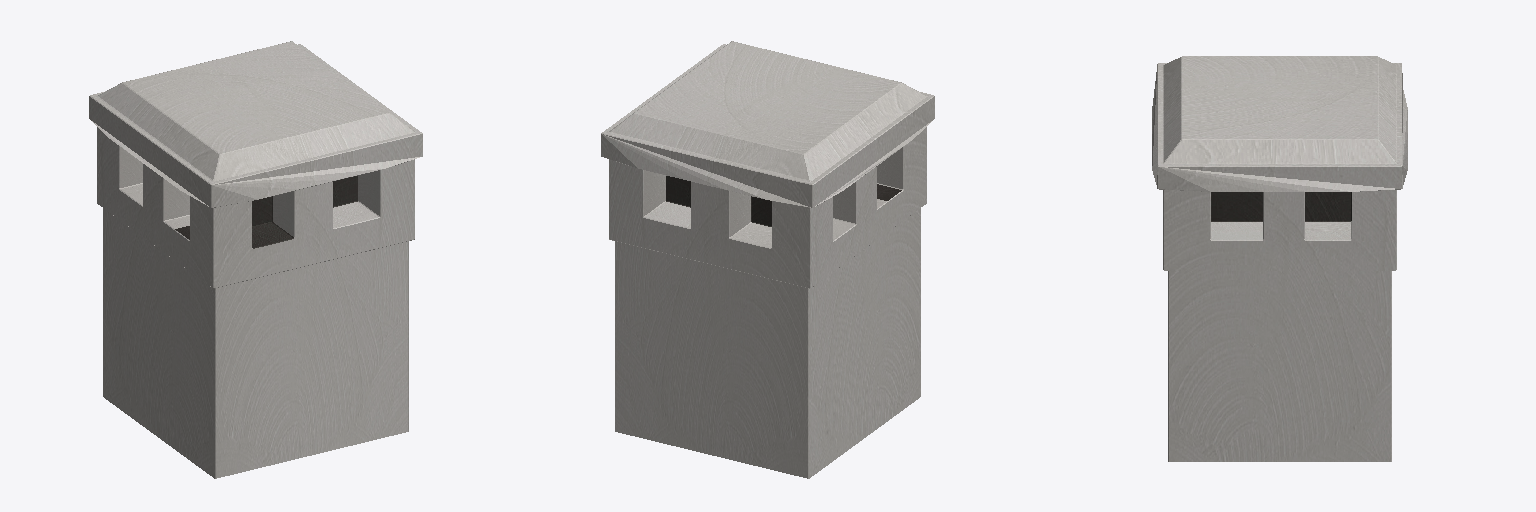
3 views of the same model, side by side, from view 1: azimuth 30°, elevation 25°; view 2: azimuth 150°, elevation 25°; view 3: azimuth 270°, elevation 25° (orthographic).
Visible parts, largest first — view 1: chimney_3; view 2: chimney_3; view 3: chimney_3.
Part boxes in pixels (x1,y1,x2,y2): chimney_3: (89, 41, 422, 478); chimney_3: (601, 41, 934, 478); chimney_3: (1152, 56, 1407, 461).
Size of the model in its own units: 1.1 by 1.5 by 1.1.
1 materials, 1 textured.